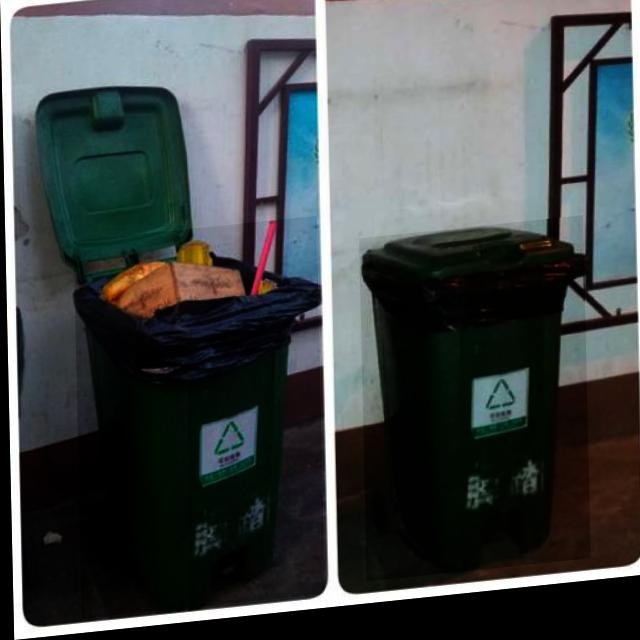garbage_bin: (358, 228, 588, 589)
overflow: (72, 223, 322, 620)
